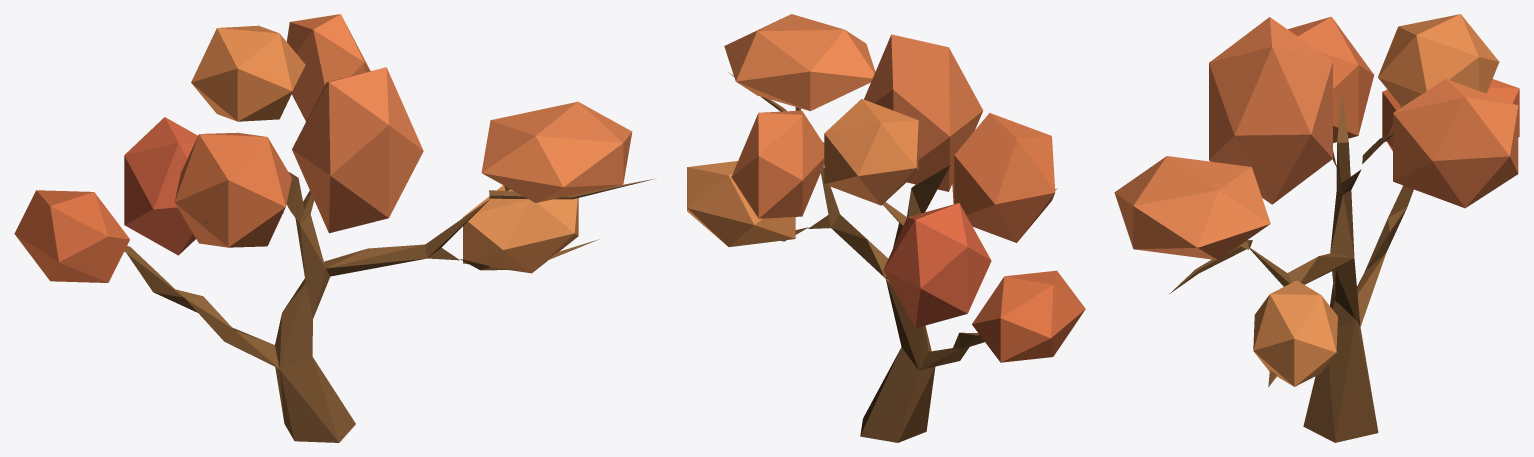
File: cherry_2_autumn_far.glb
3 renders of one model, left to right at view 1: azimuth 30°, elevation 25°; view 2: azimuth 150°, elevation 25°; view 3: azimuth 270°, elevation 25°, orthographic. The views are drawn at different scales.
Visible parts, largest first — view 1: cherry_2_autumn_far; view 2: cherry_2_autumn_far; view 3: cherry_2_autumn_far.
Part boxes in pixels (left/top/right/bottom): cherry_2_autumn_far: left=14, top=14, right=656, bottom=442; cherry_2_autumn_far: left=687, top=14, right=1085, bottom=442; cherry_2_autumn_far: left=1114, top=14, right=1519, bottom=442.
Size of the model in its own units: 9.17 by 6.75 by 6.26.
